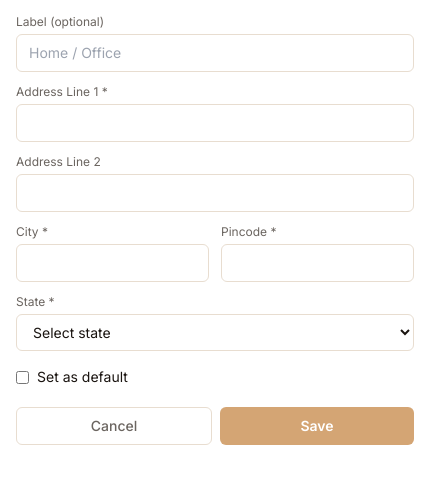
it: AddressForm validation › rejects invalid pincode
This screenshot has width=431, height=498.
Type "123 Main St" into the field labelled "Address Line 1 *" at (215, 123), box left=16, top=104, right=414, bottom=142
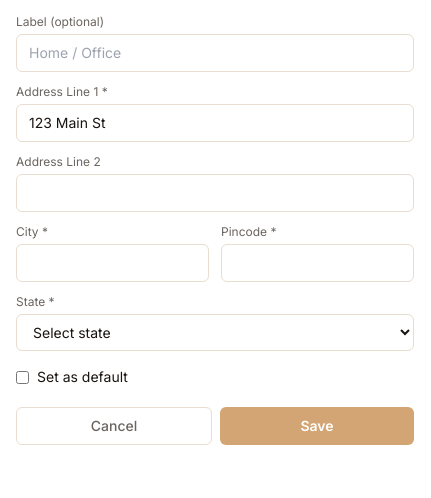
Type "Mumbai" into the field labelled "City *" at (112, 263), box left=16, top=244, right=209, bottom=282
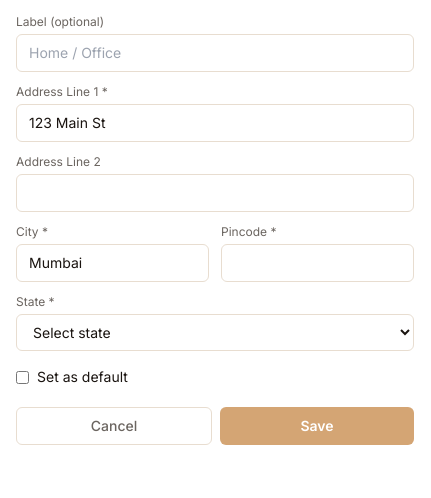
Select "Maharashtra" in the dropdown labelled "State *" at (215, 332), box left=16, top=314, right=414, bottom=351
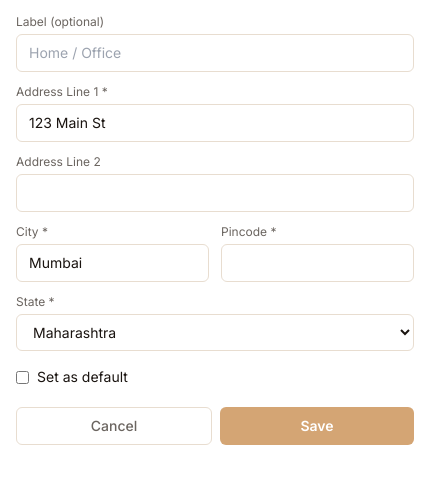
Type "12345" into the field labelled "Pincode *" at (318, 263), box left=221, top=244, right=414, bottom=282
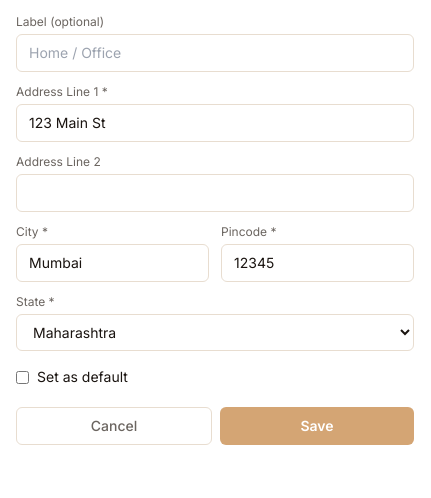
Click the button "Save" at (317, 426), box left=220, top=407, right=414, bottom=445
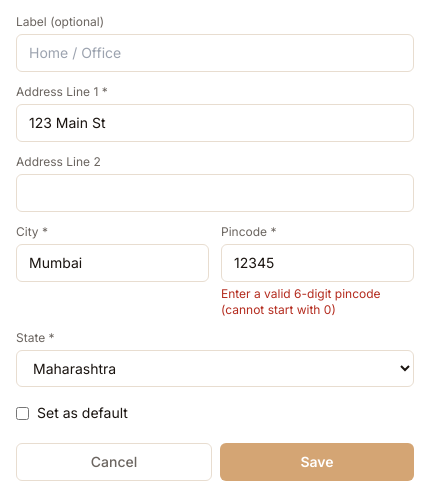
Now the text "Enter a valid 6-digit pincode (cannot start with 0)" is shown, box left=221, top=286, right=381, bottom=317
